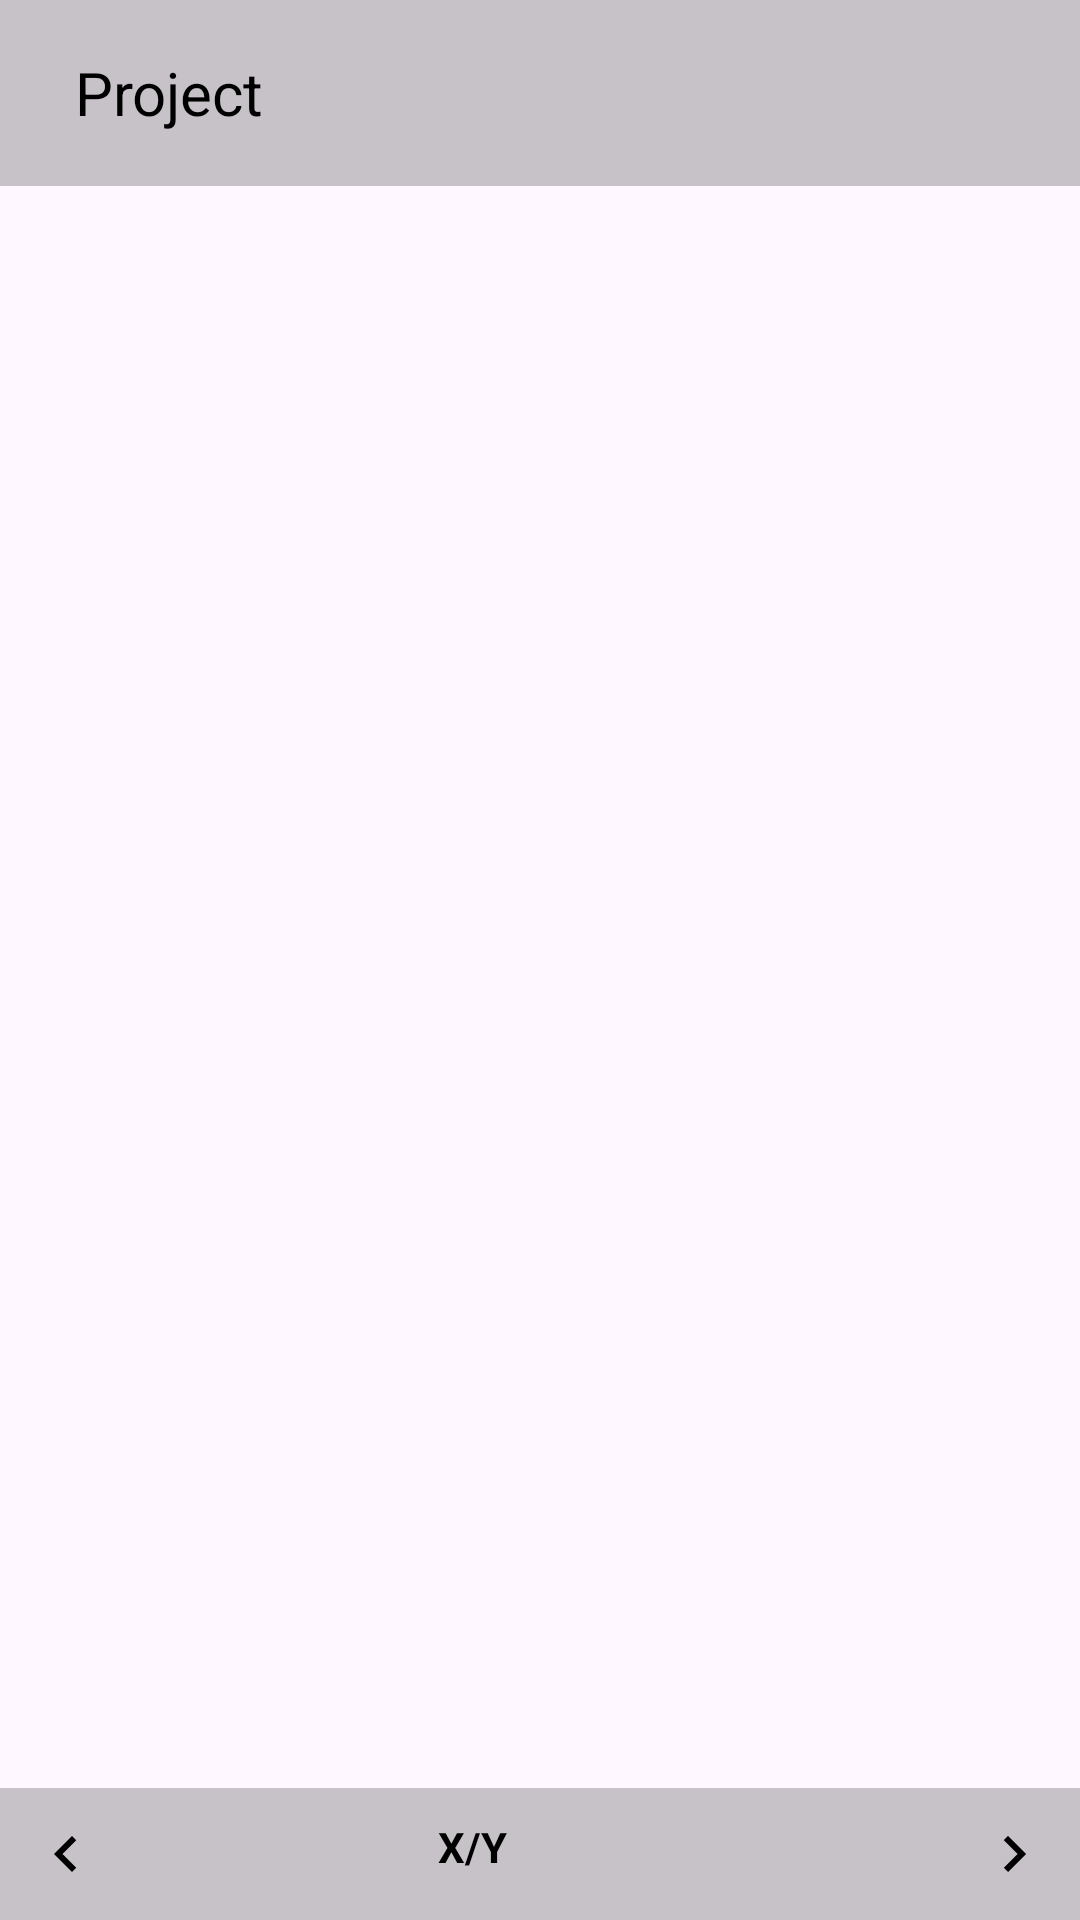

Icon click points for this 1080px×1920px phone screenshot, format (x=x, y=y):
arrow left: (x=65, y=1854)
Next: (x=1015, y=1854)
